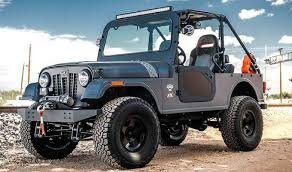mobil: (13, 8, 276, 162)
